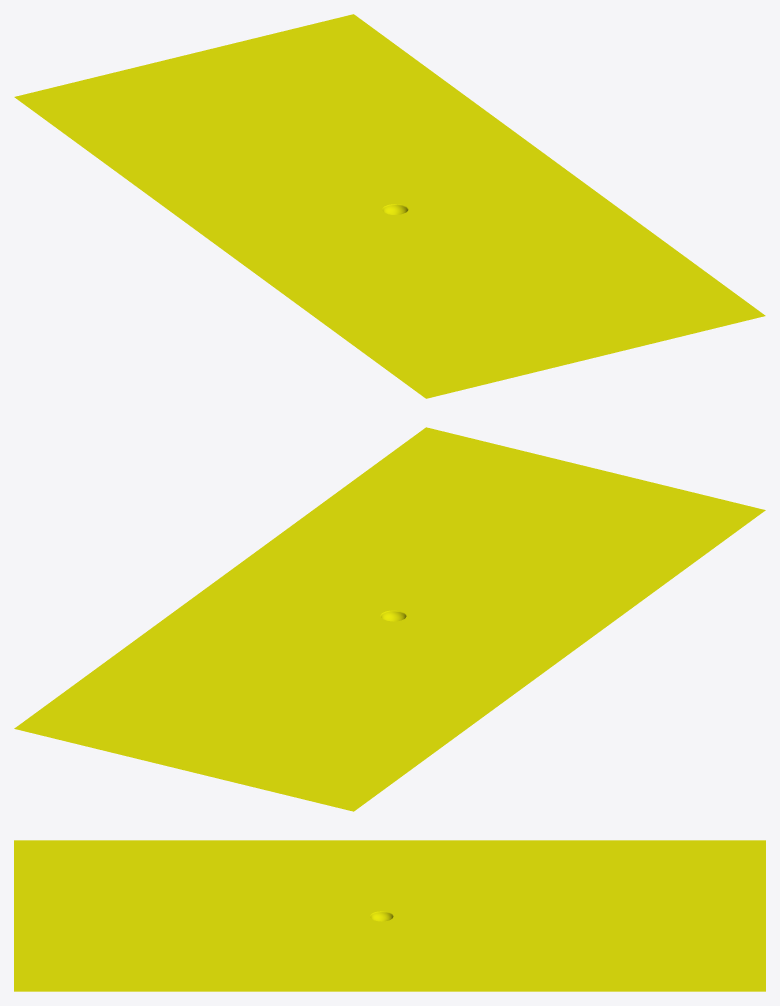
3 views of the same model, one above another, from view 1: azimuth 30°, elevation 25°; view 2: azimuth 150°, elevation 25°; view 3: azimuth 270°, elevation 25° (orthographic). The views are drawn at different scales.
Parts seen in each view (by area): view 1: san1; view 2: san1; view 3: san1.
Part boxes in pixels (bbox=[...]): san1: bbox=[14, 14, 765, 398]; san1: bbox=[14, 427, 765, 811]; san1: bbox=[14, 840, 765, 991].
Size of the model in its own units: 12.3 by 0.2385 by 25.84.
1 material, 1 textured.
